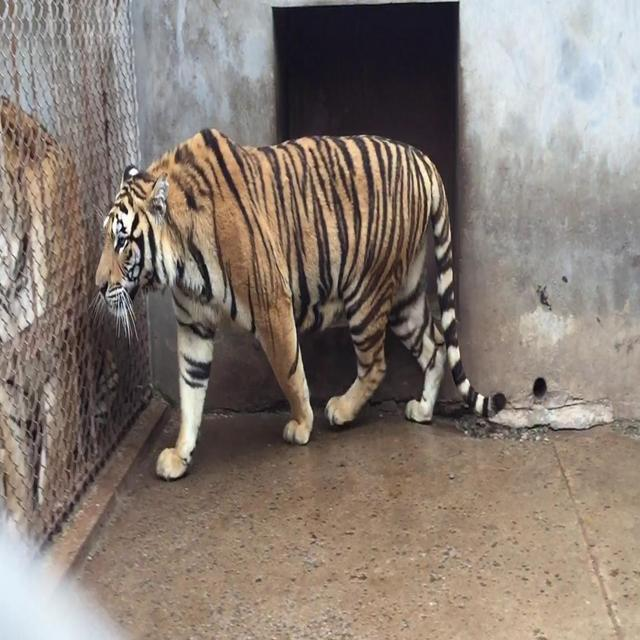tiger: (93, 99, 510, 486), (0, 87, 94, 538)
